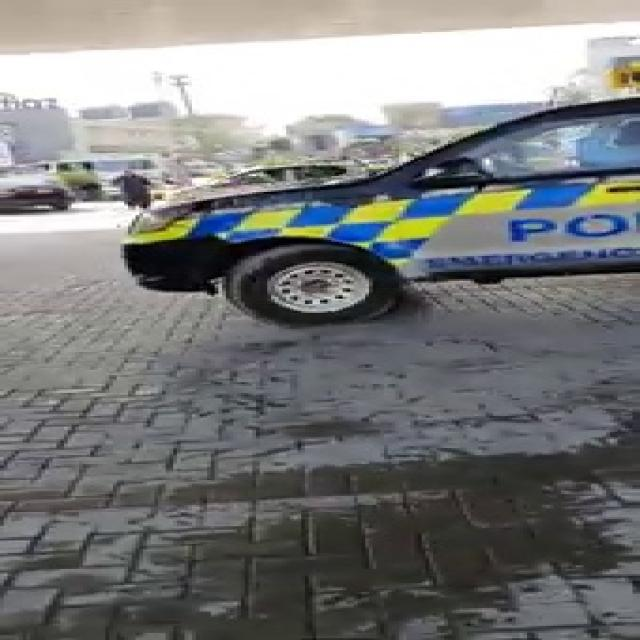police: (102, 34, 640, 328)
